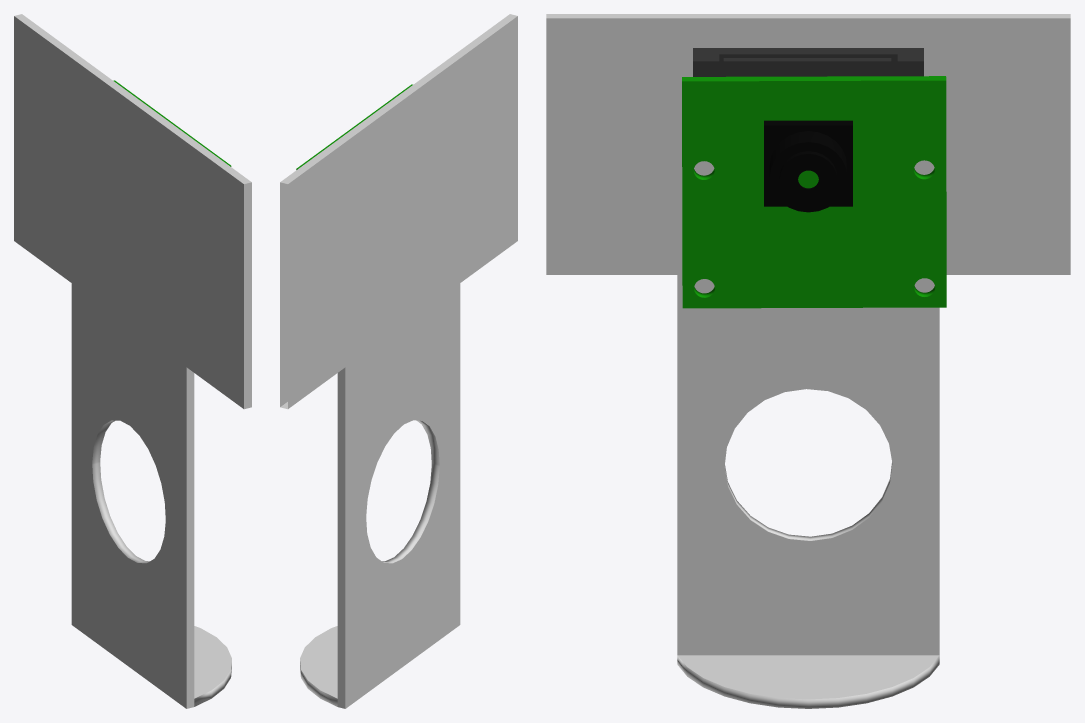
Rendered from picam.dae.
The picture shows the model from 3 angles, left to right: view 1: azimuth 30°, elevation 25°; view 2: azimuth 150°, elevation 25°; view 3: azimuth 270°, elevation 25°; orthographic projection. The views are drawn at different scales.
Visible parts, largest first — view 1: Mesh4_Group1_Model; view 2: Mesh4_Group1_Model; view 3: Mesh4_Group1_Model, Mesh3_Component_7_1_Group1_Model, Mesh1_Spy_Camera_for_Raspberry_Pi_1_1_Component_7_1_Group1_M, Mesh2_Component_6_1_Component_7_1_Group1_Model.
Part boxes in pixels (<box>): Mesh4_Group1_Model: <box>14,14,251,708</box>; Mesh4_Group1_Model: <box>280,14,517,708</box>; Mesh4_Group1_Model: <box>546,14,1070,708</box>; Mesh3_Component_7_1_Group1_Model: <box>682,76,946,308</box>; Mesh1_Spy_Camera_for_Raspberry_Pi_1_1_Component_7_1_Group1_M: <box>764,120,852,212</box>; Mesh2_Component_6_1_Component_7_1_Group1_Model: <box>693,48,923,76</box>.
Bounding box in the file's own units: 0.011 × 0.05 × 0.068.
